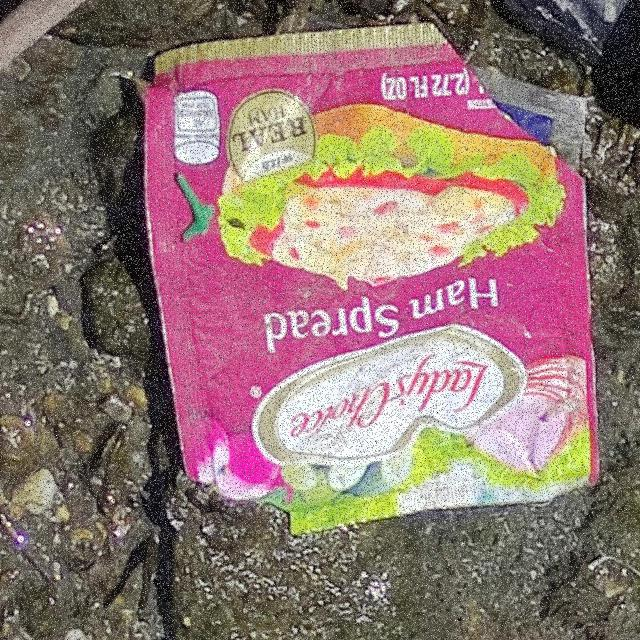plastic_waste: (146, 24, 603, 537)
